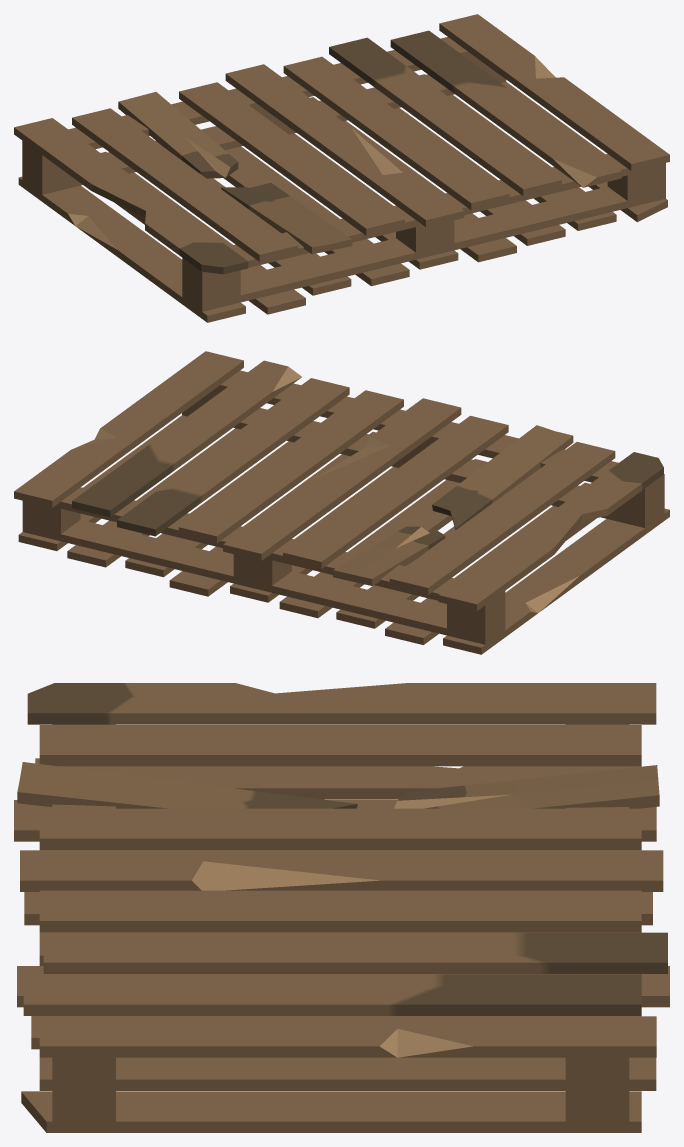
The model's file is SM_Wooden_Pallet_B.gltf.
The picture shows the model from 3 angles, top to bottom: view 1: azimuth 30°, elevation 25°; view 2: azimuth 150°, elevation 25°; view 3: azimuth 270°, elevation 25°; orthographic projection. The views are drawn at different scales.
Visible parts, largest first — view 1: SM_Wooden_Pallet_B; view 2: SM_Wooden_Pallet_B; view 3: SM_Wooden_Pallet_B.
Boxes of the visible parts, x1,y1,x2,y2 form: SM_Wooden_Pallet_B: [14, 14, 669, 322]; SM_Wooden_Pallet_B: [14, 351, 669, 654]; SM_Wooden_Pallet_B: [14, 683, 669, 1132].
Bounding box in the file's own units: 2.06 × 0.2284 × 1.57.
Materials: 1 (1 with a texture image).
